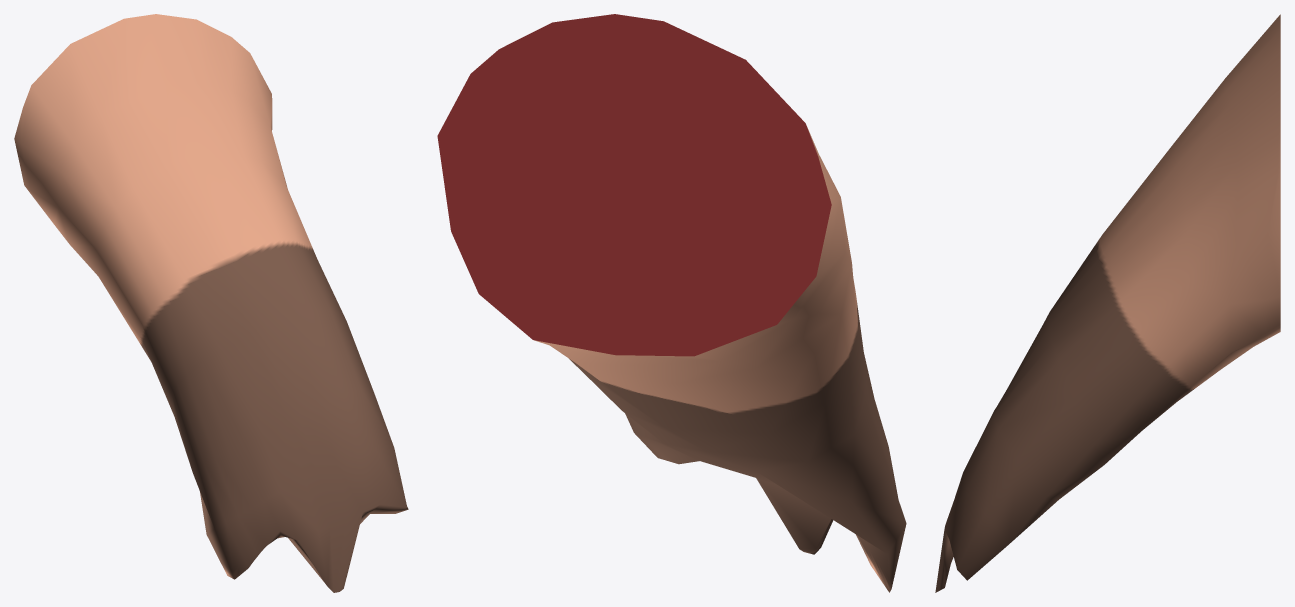
Rendered from rArm.obj.
3 views of the same model, side by side, from view 1: azimuth 30°, elevation 25°; view 2: azimuth 150°, elevation 25°; view 3: azimuth 270°, elevation 25° (orthographic). The views are drawn at different scales.
Visible parts, largest first — view 1: Fox_Final_Low.007_Fox_Final_Low.008; view 2: Fox_Final_Low.007_Fox_Final_Low.008; view 3: Fox_Final_Low.007_Fox_Final_Low.008.
Part boxes in pixels (box(x1,y1,x2,y2)): Fox_Final_Low.007_Fox_Final_Low.008: box(14, 14, 408, 592); Fox_Final_Low.007_Fox_Final_Low.008: box(437, 14, 906, 592); Fox_Final_Low.007_Fox_Final_Low.008: box(935, 14, 1280, 592).
Size of the model in its own units: 1.02 by 1.79 by 1.06.
